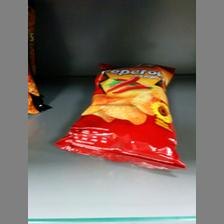Chips: (81, 61, 185, 171)
